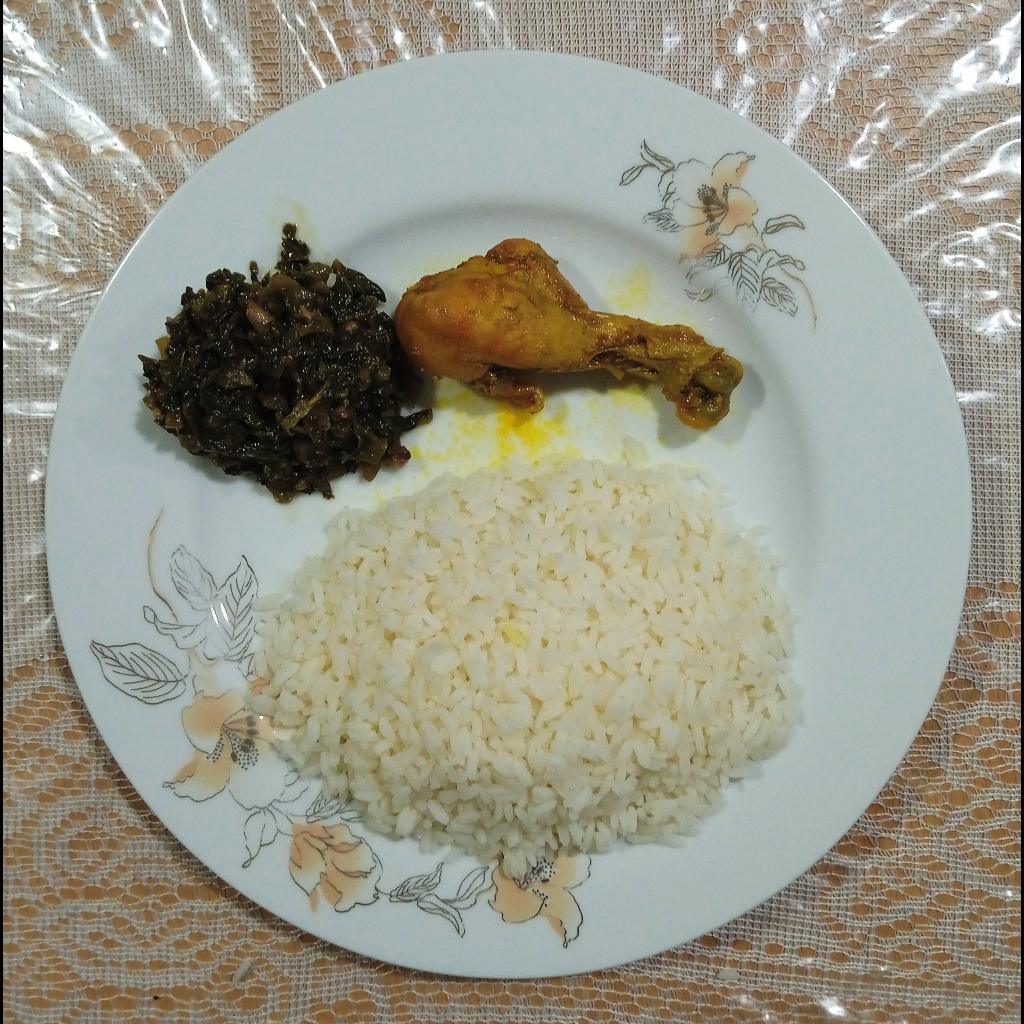chicken: (388, 235, 746, 429)
rice: (236, 445, 803, 882)
shak: (141, 227, 431, 507)
